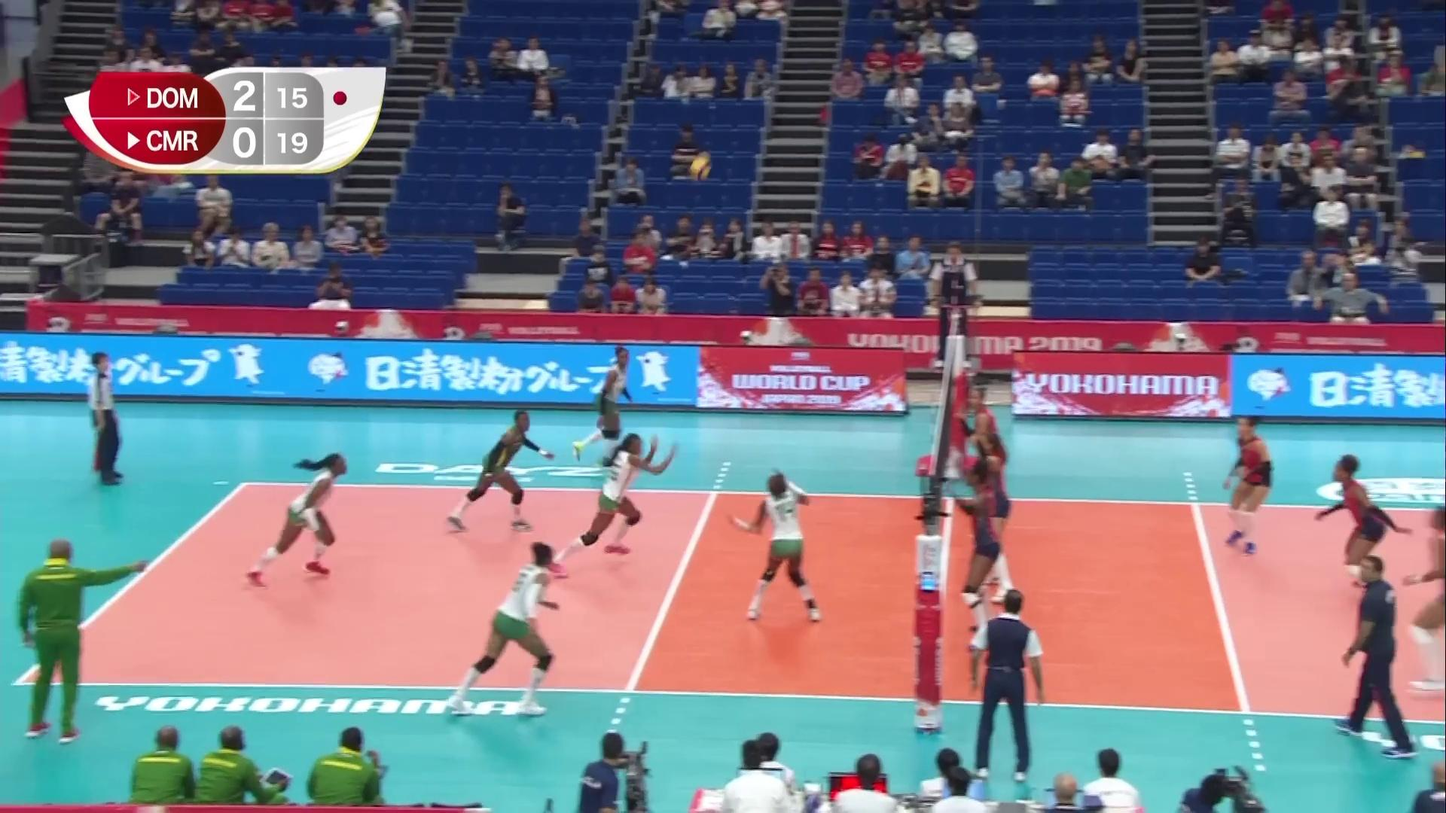player: (444, 543, 560, 714), (545, 435, 674, 580), (1317, 457, 1412, 604), (246, 451, 347, 586), (736, 471, 823, 622), (447, 410, 551, 532), (963, 428, 1017, 604), (951, 461, 997, 653), (1406, 507, 1446, 693), (959, 387, 1009, 534), (1222, 416, 1272, 555), (573, 348, 630, 467)
refree: (967, 591, 1045, 784), (931, 239, 980, 367), (87, 353, 124, 486)
